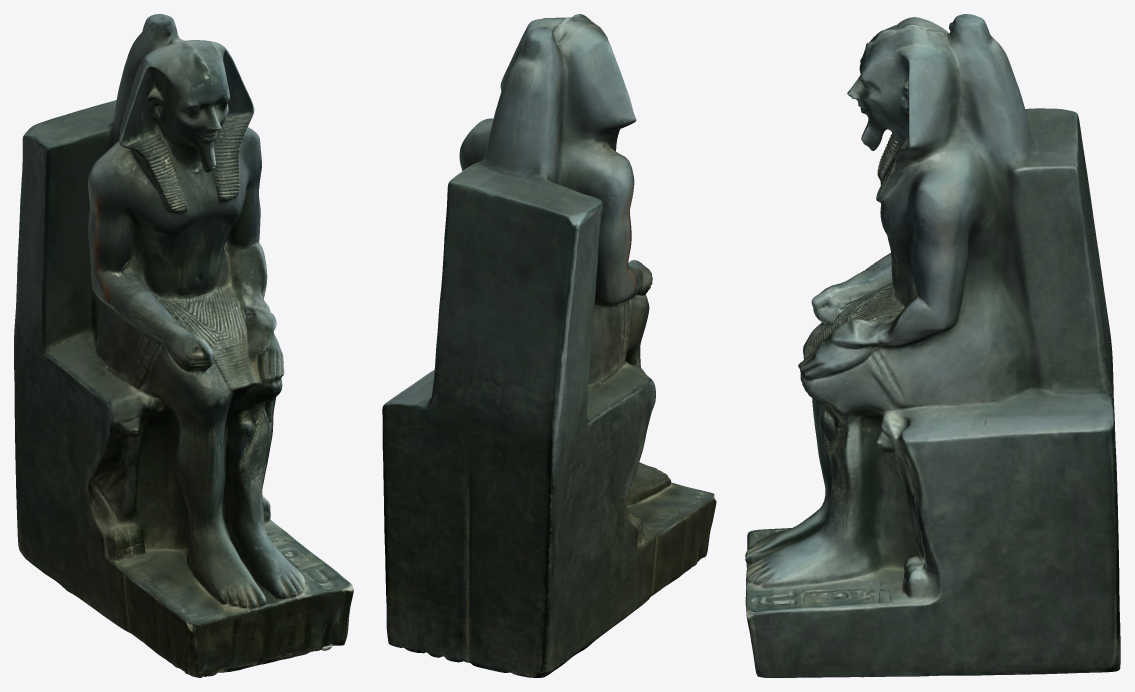
3 views of the same model, side by side, from view 1: azimuth 30°, elevation 25°; view 2: azimuth 150°, elevation 25°; view 3: azimuth 270°, elevation 25° (orthographic). The views are drawn at different scales.
Visible parts, largest first — view 1: tripo_node_44e30798-8349-4ebf-afea-52ec2a75c7c8; view 2: tripo_node_44e30798-8349-4ebf-afea-52ec2a75c7c8; view 3: tripo_node_44e30798-8349-4ebf-afea-52ec2a75c7c8.
Boxes of the visible parts, bbox=[...] form: tripo_node_44e30798-8349-4ebf-afea-52ec2a75c7c8: bbox=[14, 14, 353, 677]; tripo_node_44e30798-8349-4ebf-afea-52ec2a75c7c8: bbox=[382, 14, 716, 677]; tripo_node_44e30798-8349-4ebf-afea-52ec2a75c7c8: bbox=[745, 14, 1120, 677].
Size of the model in its own units: 0.3223 by 0.9795 by 0.5399.
1 material, 1 textured.
